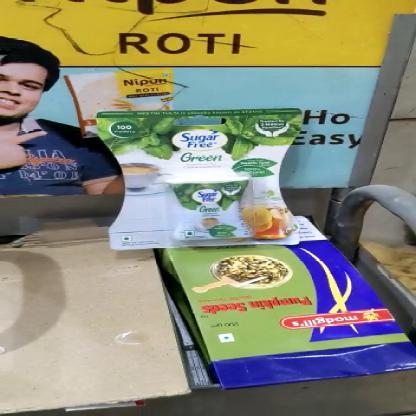SUGAR FREE GRN 300 PELLET: (93, 108, 302, 246)
